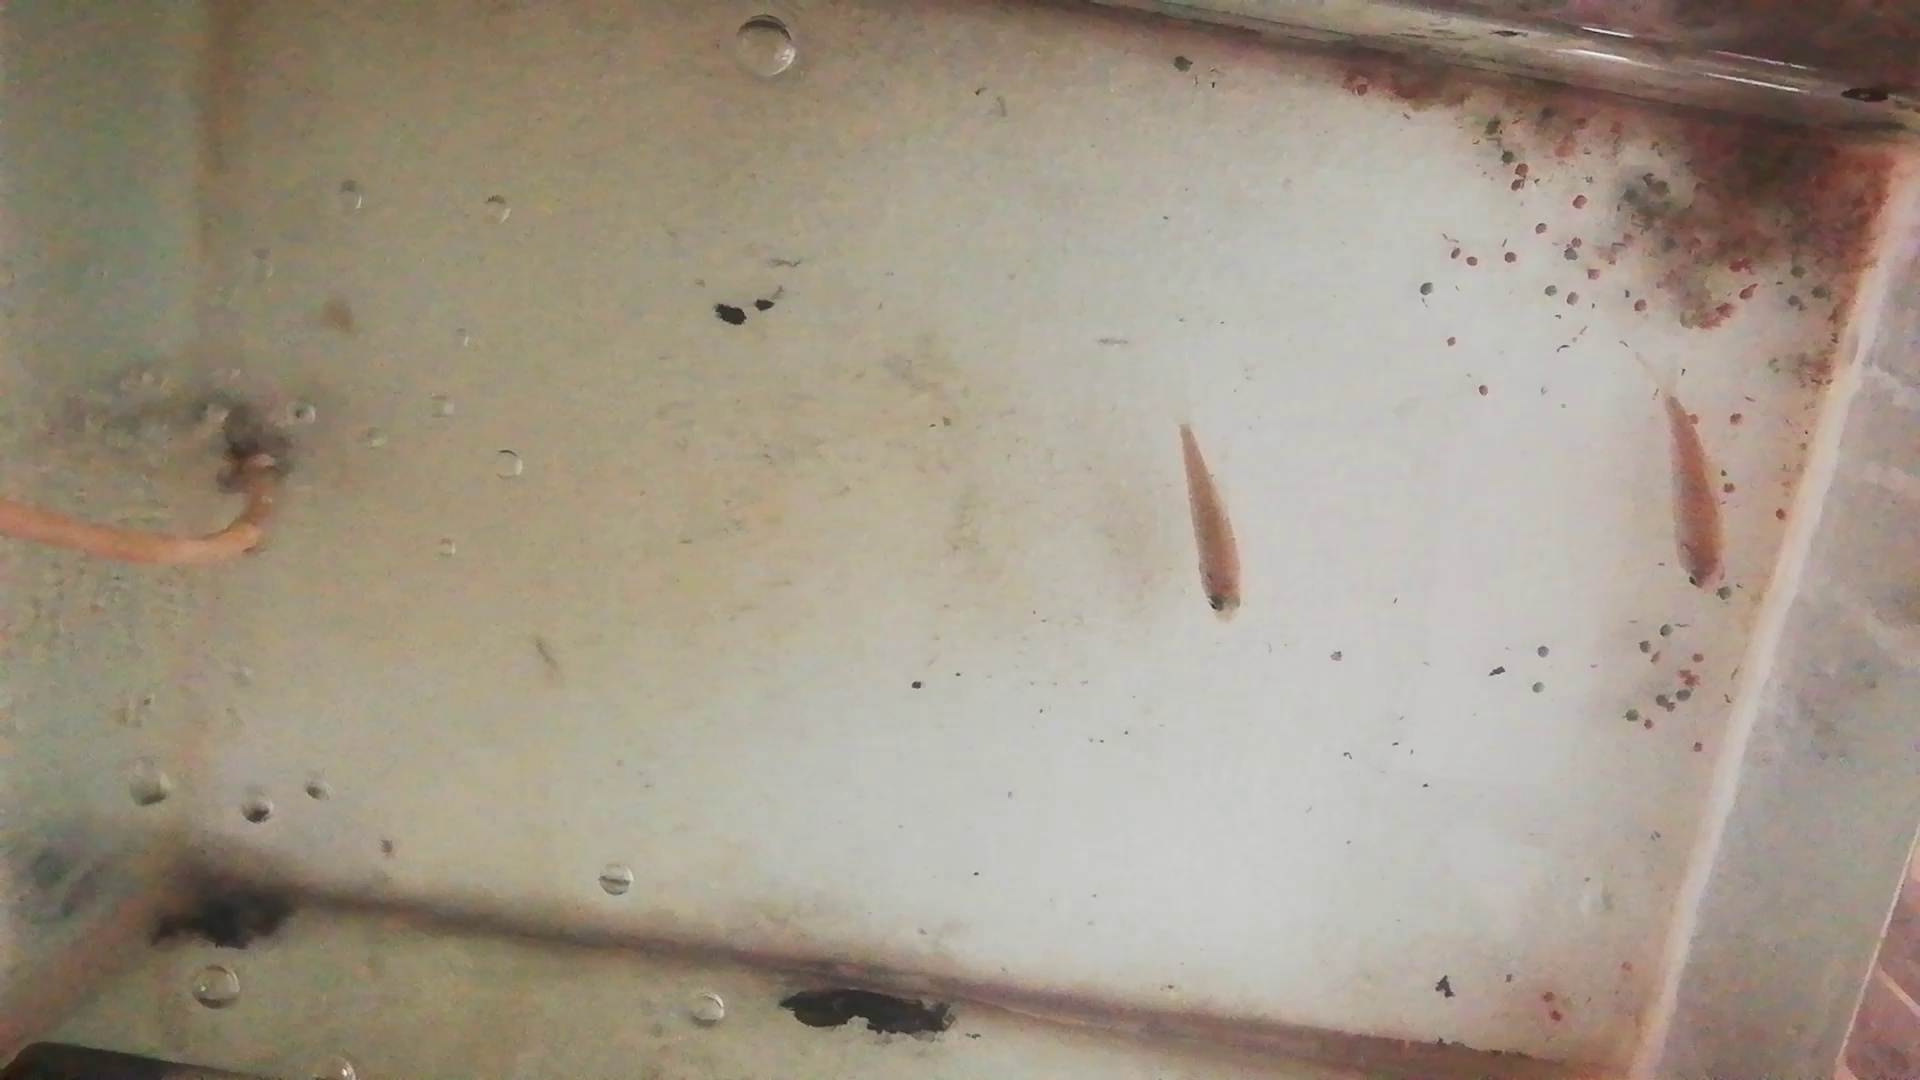fish: (1178, 417, 1250, 621), (1664, 386, 1733, 591)
